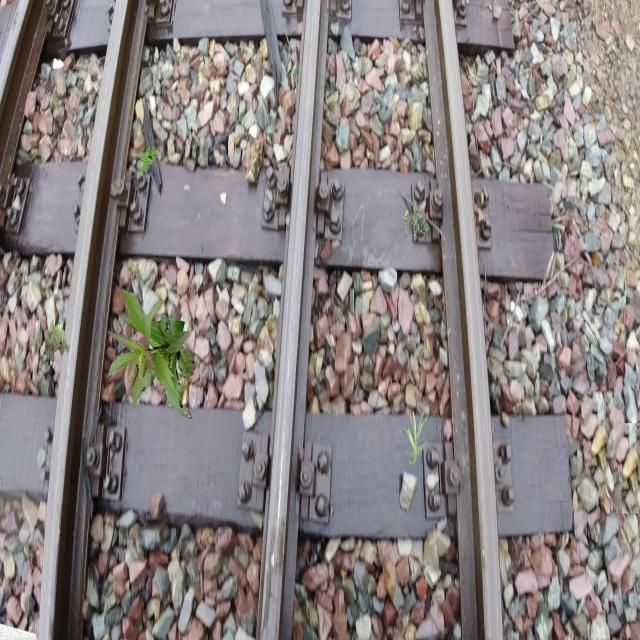Plant: (106, 289, 194, 419), (403, 409, 430, 466), (402, 200, 430, 241), (44, 319, 70, 362), (138, 144, 158, 176)
